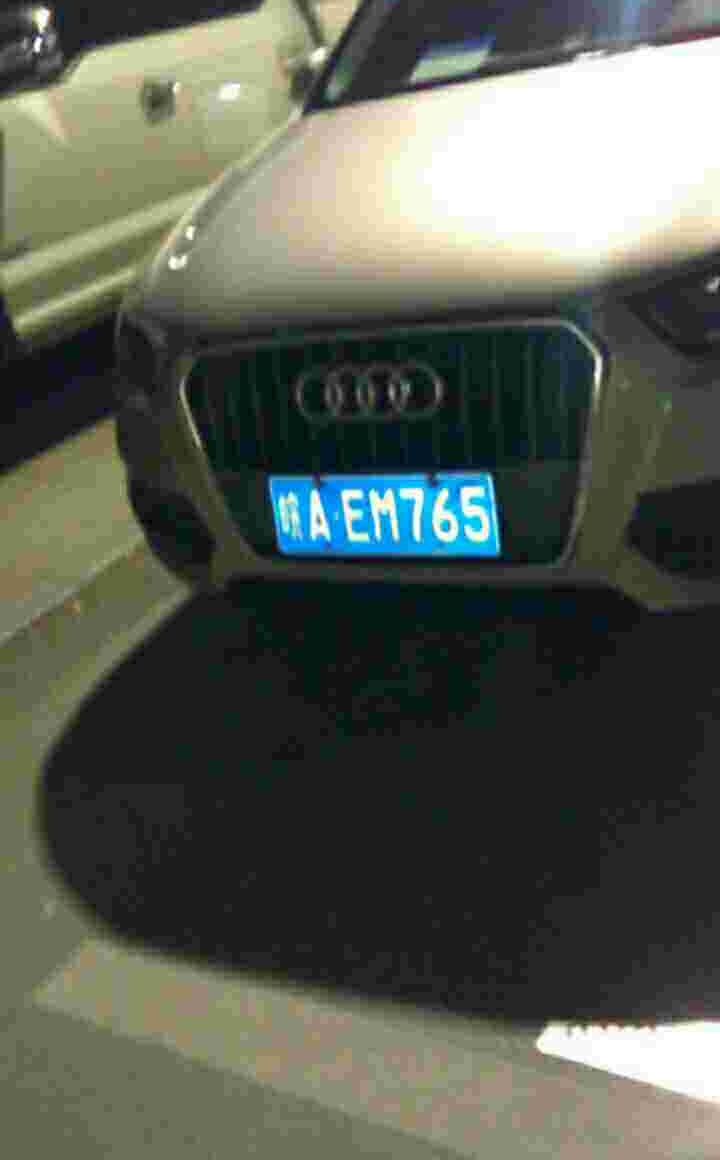plate: (263, 471, 505, 558)
